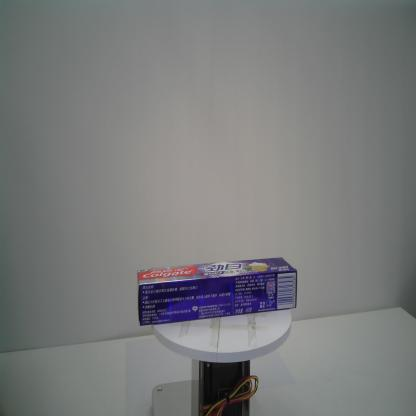Personal Hygiene: (135, 256, 299, 327)
